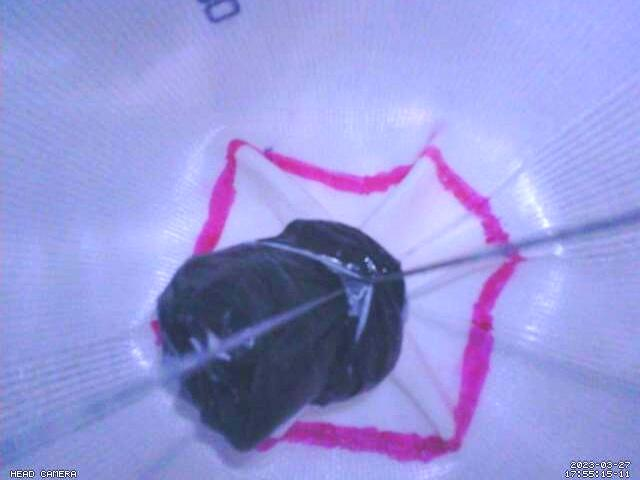red-circle: (150, 136, 527, 463)
